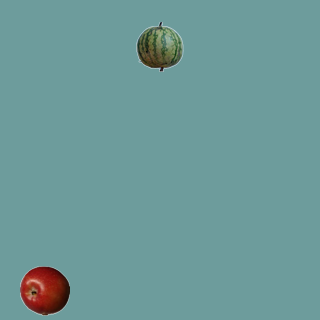Apple Braeburn: (19, 265, 69, 315)
Watermelon: (134, 21, 184, 71)
